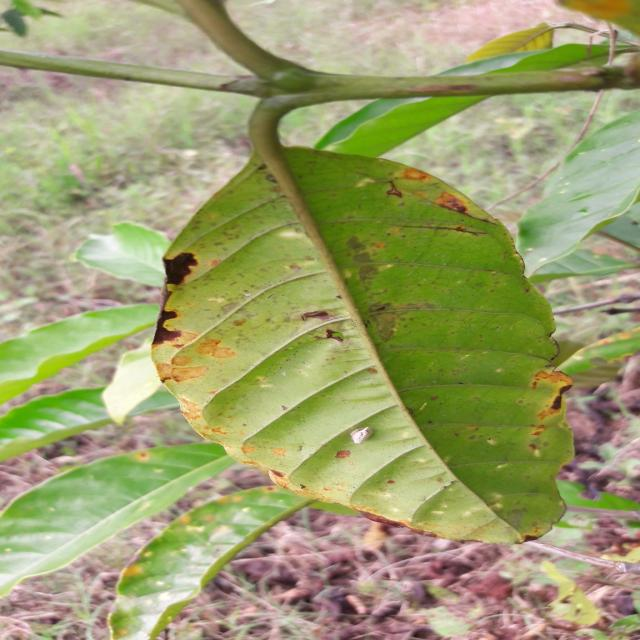Enfermedad-Roya: (151, 94, 575, 547)
